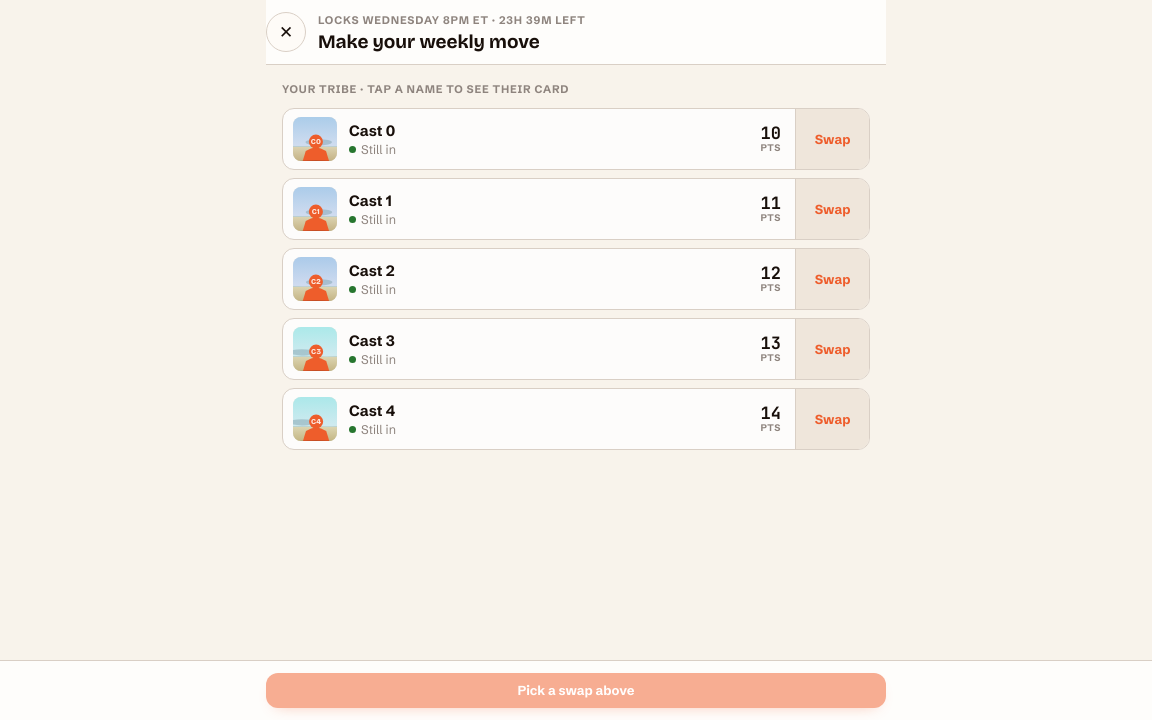
SwapSheet › Undo clears a staged swap
The width and height of the screenshot is (1152, 720).
Click the 1st button "Swap". click: (832, 139)
box: [795,109,869,169]
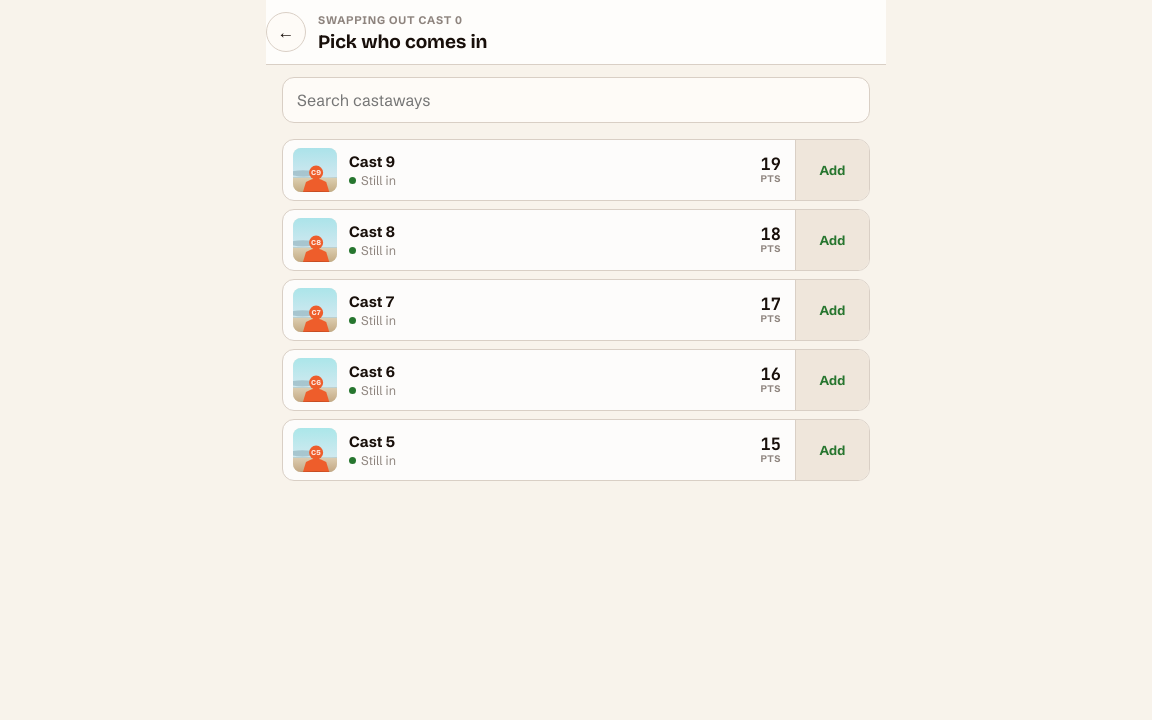
Click the 1st button "Add". click: (832, 170)
box: [795,140,869,200]
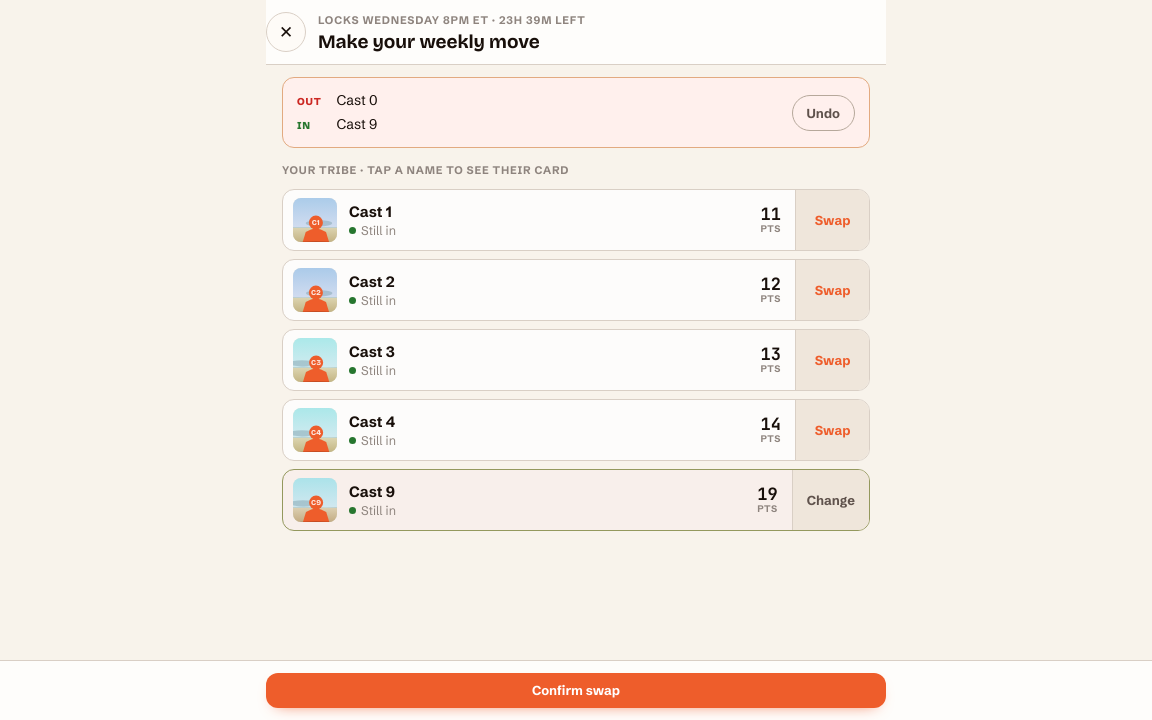
Result: the button "Confirm swap" is enabled at [266,673,886,708]
Click the button "Undo". click: (823, 113)
box: [792,95,855,131]
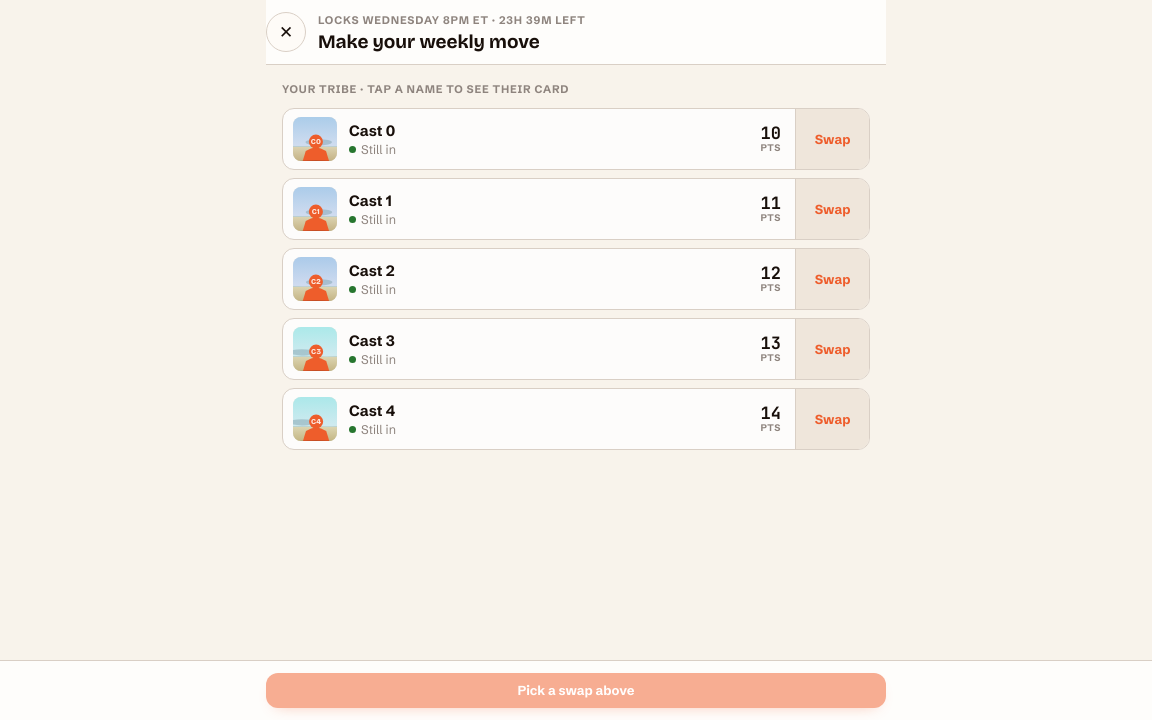
Result: the button "Pick a swap above" is disabled at [266,673,886,708]
